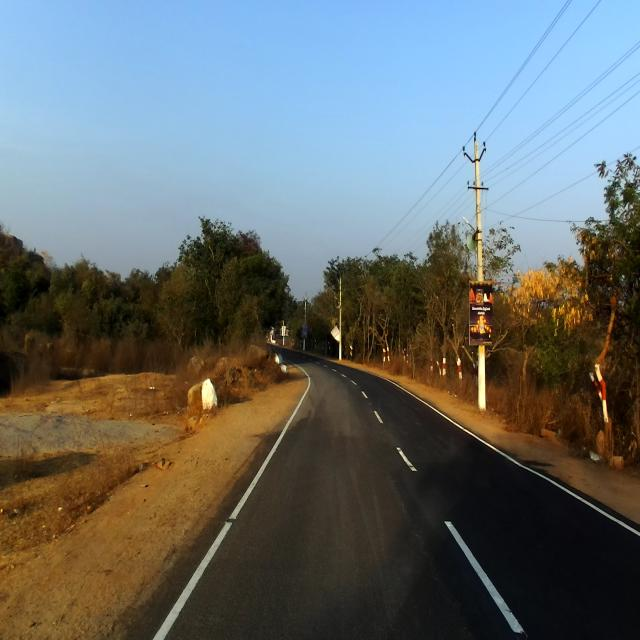electric pole ahead at: (456, 123, 498, 411)
stones ahead at: (187, 378, 219, 416), (244, 339, 269, 366), (274, 350, 290, 382)
